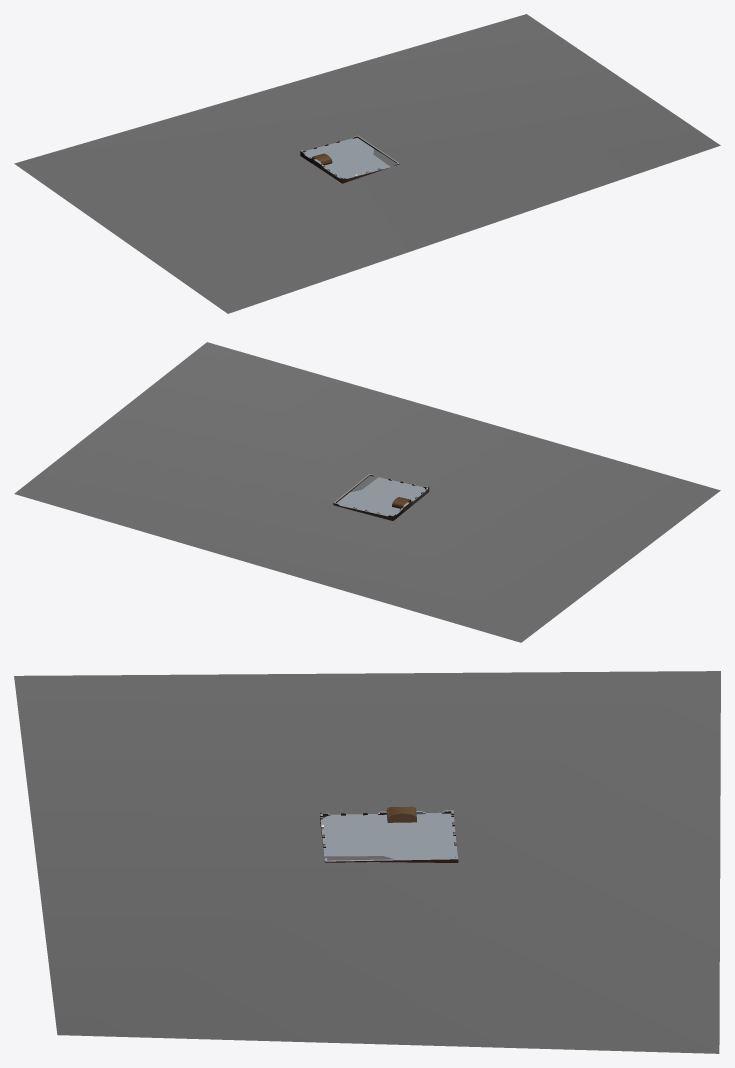
Rendered from chilis.glb.
3 views of the same model, one above another, from view 1: azimuth 30°, elevation 25°; view 2: azimuth 150°, elevation 25°; view 3: azimuth 270°, elevation 25° (orthographic). The views are drawn at different scales.
Visible parts, largest first — view 1: LOD0; view 2: LOD0; view 3: LOD0.
Part boxes in pixels (x1,y1,x2,y2): LOD0: (14, 14, 720, 313); LOD0: (14, 342, 720, 642); LOD0: (14, 671, 720, 1053).
Size of what is drawn, in the model's own units: 185 by 12.36 by 130.
Materials: 2 (2 with a texture image).
